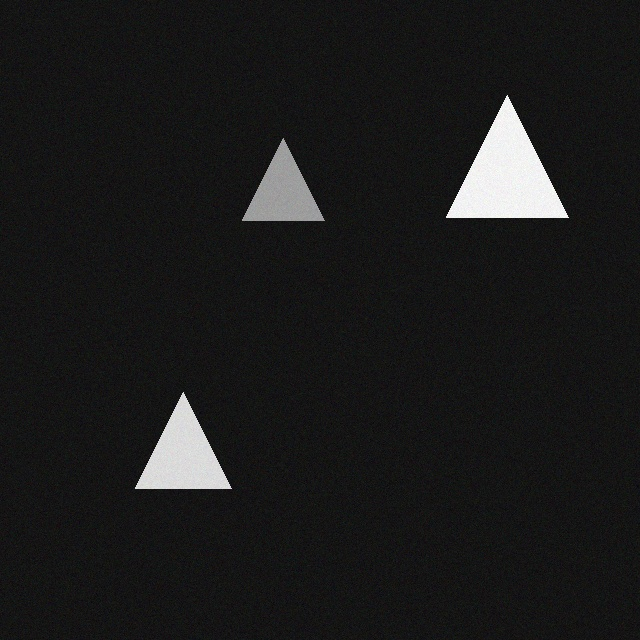triangle: (456, 85, 578, 207), (145, 382, 241, 478), (252, 128, 334, 210)
